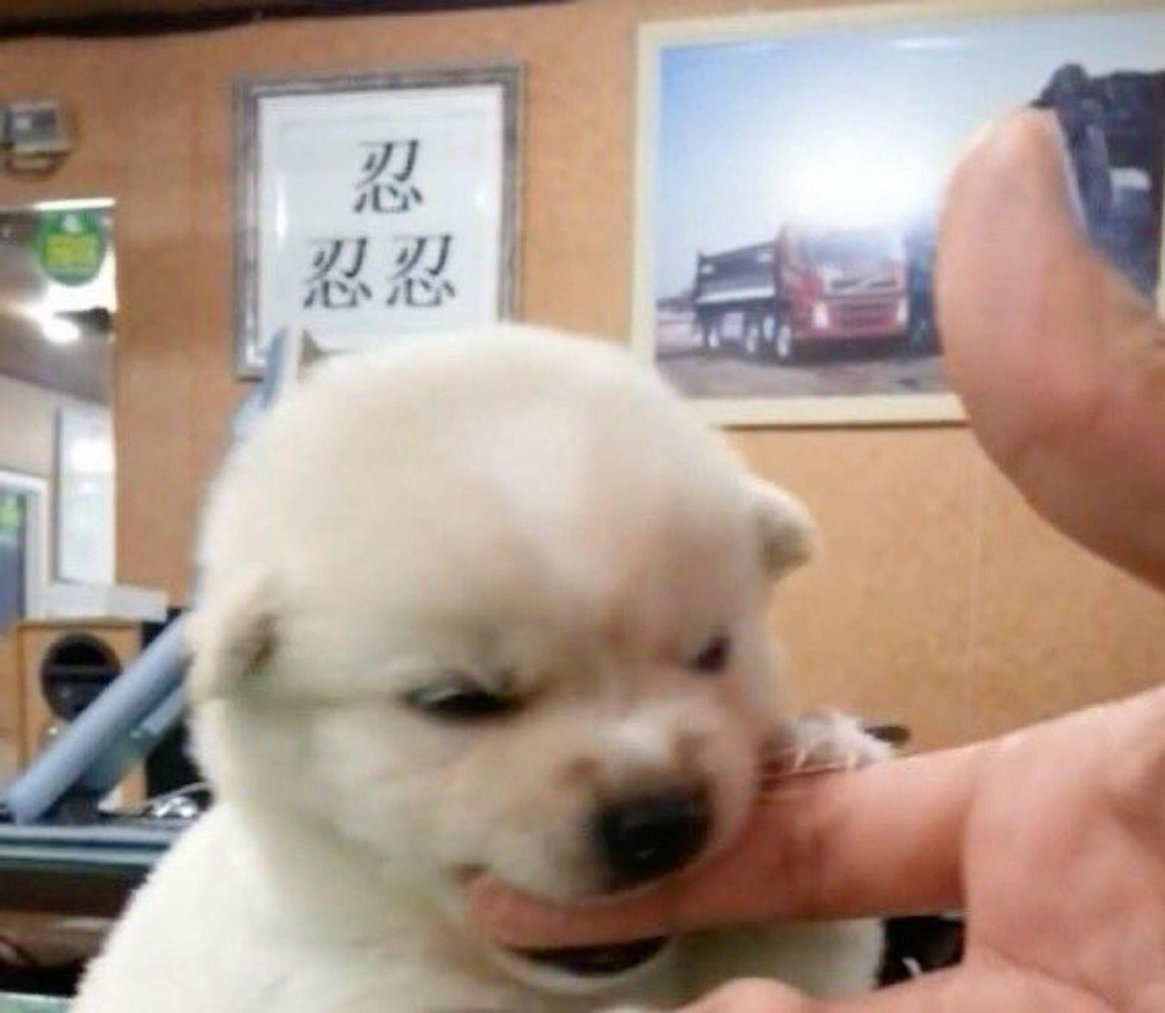puppy-dog: (62, 318, 899, 1013)
